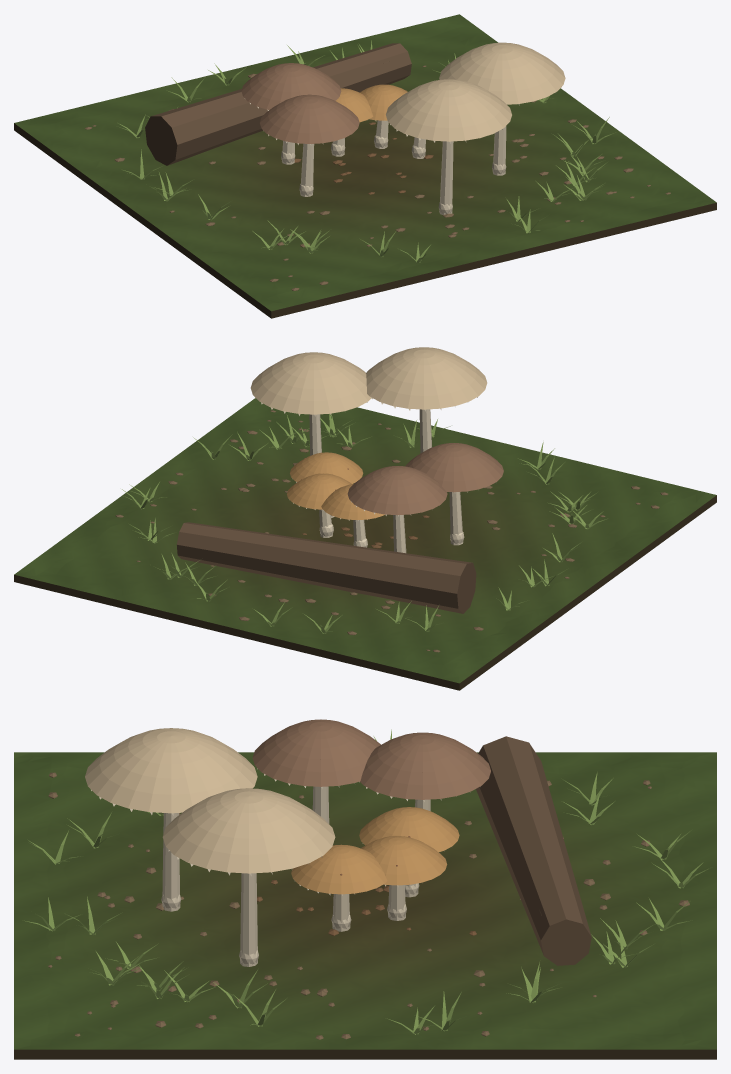
File: mushrooms.glb
3 views of the same model, one above another, from view 1: azimuth 30°, elevation 25°; view 2: azimuth 150°, elevation 25°; view 3: azimuth 270°, elevation 25° (orthographic). The views are drawn at different scales.
Parts seen in each view (by area): view 1: Static_mesh, MushroomCap.002_mesh, MushroomCap.005_mesh, MushroomCap.004_mesh, MushroomCap.001_mesh, MushroomCap.003_mesh, MushroomStipe.002_mesh, MushroomCap.006_mesh, MushroomStipe.004_mesh; view 2: Static_mesh, MushroomCap.002_mesh, MushroomCap.005_mesh, MushroomCap.001_mesh, MushroomCap.004_mesh, MushroomCap_mesh, MushroomCap.003_mesh, MushroomCap.006_mesh, MushroomStipe.004_mesh; view 3: Static_mesh, MushroomCap.005_mesh, MushroomCap.002_mesh, MushroomCap.001_mesh, MushroomCap.004_mesh, MushroomCap_mesh, MushroomCap.003_mesh, MushroomCap.006_mesh, MushroomStipe.005_mesh, MushroomStipe.002_mesh.
Part boxes in pixels (x1,y1,x2,y2): Static_mesh: (14,14,716,318); MushroomCap.002_mesh: (386,79,511,143); MushroomCap.005_mesh: (439,42,565,105); MushroomCap.004_mesh: (260,94,359,145); MushroomCap.001_mesh: (241,63,341,110); MushroomCap.003_mesh: (360,84,407,121); MushroomStipe.002_mesh: (439,141,453,214); MushroomCap.006_mesh: (336,88,373,122); MushroomStipe.004_mesh: (300,143,314,196); Static_mesh: (14,398,716,690); MushroomCap.002_mesh: (366,347,487,411); MushroomCap.005_mesh: (250,352,371,416); MushroomCap.001_mesh: (347,466,447,516); MushroomCap.004_mesh: (405,443,503,493); MushroomCap_mesh: (290,452,363,483); MushroomCap.003_mesh: (287,473,351,509); MushroomCap.006_mesh: (321,484,384,520); MushroomStipe.004_mesh: (449,492,463,545); Static_mesh: (14,736,716,1059); MushroomCap.005_mesh: (162,788,335,876); MushroomCap.002_mesh: (85,728,257,815); MushroomCap.001_mesh: (359,732,490,801); MushroomCap.004_mesh: (252,719,380,788); MushroomCap_mesh: (291,844,387,895); MushroomCap.003_mesh: (361,836,447,886); MushroomCap.006_mesh: (359,807,459,852); MushroomStipe.005_mesh: (240,873,257,966); MushroomStipe.002_mesh: (162,813,180,911).
Bounding box in the file's own units: 3.5 × 1.01 × 3.5.
